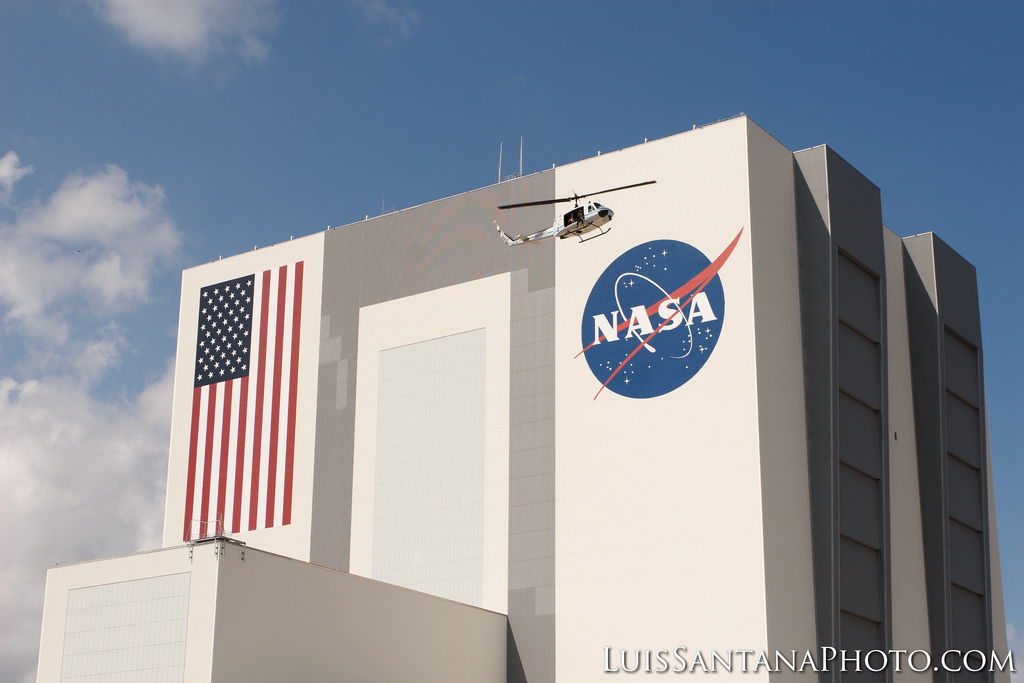NASA: (573, 222, 744, 408)
